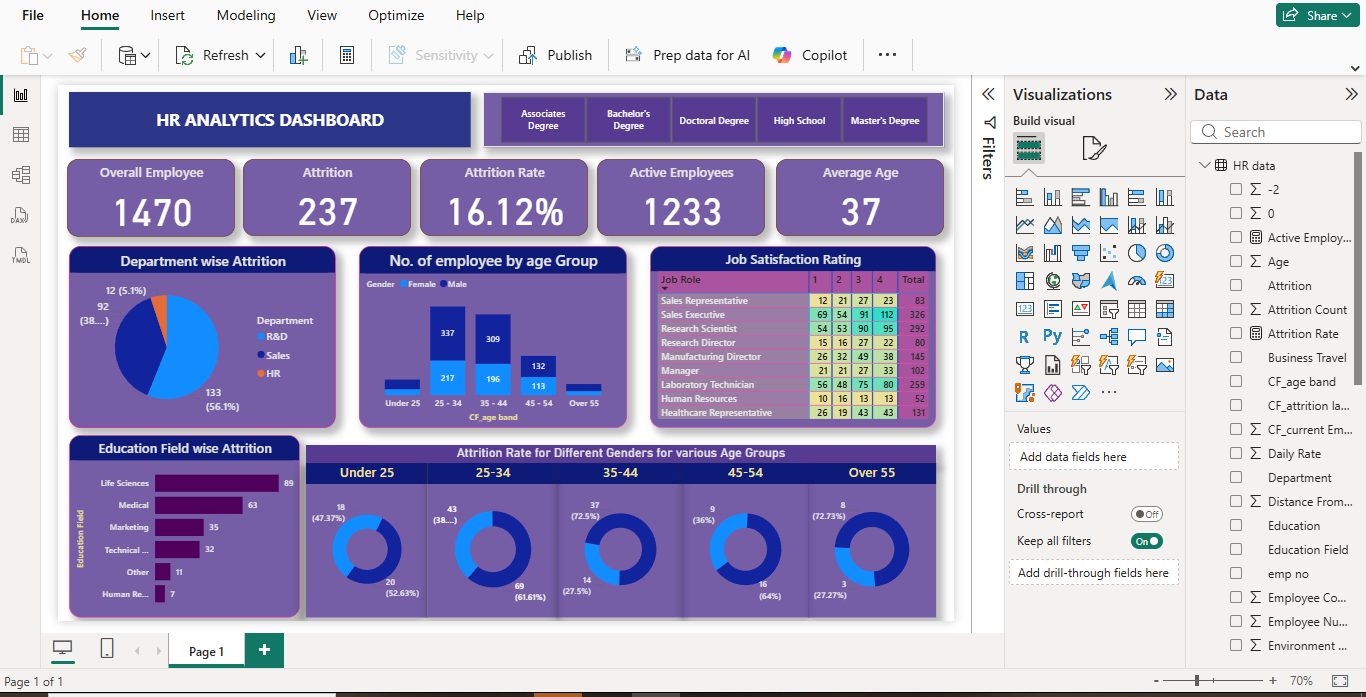

The dashboard page shown, as its layout file describes it:
{"tool":"powerbi","page":{"name":"Page 1","canvas":[1280,765],"ordinal":0},"visuals":[{"type":"card","title":"Overall Employee","fields":{"Values":["Sum(HR data.Employee Count)"]},"box":[12.9,106.4,240,111.4],"z":0,"group":"g2"},{"type":"pieChart","title":"Department wise Attrition","fields":{"Category":["HR data.Department"],"Y":["Sum(HR data.Attrition Count )"]},"box":[15.7,230,381.4,260],"z":0},{"type":"card","title":"Attrition","fields":{"Values":["Sum(HR data.Attrition Count )"]},"box":[264.3,105.7,240,110],"z":1000,"group":"g2"},{"type":"columnChart","title":"No. of employee by age Group ","fields":{"Category":["HR data.CF_age band"],"Y":["Sum(HR data.Employee Count)"],"Series":["HR data.Gender"]},"box":[430,230,382.9,260],"z":1000},{"type":"card","title":"Attrition Rate","fields":{"Values":["HR data.Attrition Rate"]},"box":[517.2,105.7,240,110],"z":2000,"group":"g2"},{"type":"pivotTable","title":"Job Satisfaction Rating ","fields":{"Rows":["HR data.Job Role"],"Columns":["HR data.Job Satisfaction"],"Values":["Sum(HR data.Employee Count)"]},"box":[845.7,230,408.6,260],"z":2000},{"type":"card","title":"Active Employees ","fields":{"Values":["HR data.Active Employees"]},"box":[770,105.7,240,110],"z":3000,"group":"g2"},{"type":"barChart","title":"Education Field wise Attrition","fields":{"Category":["HR data.Education Field"],"Y":["Sum(HR data.Attrition Count )"]},"box":[15.7,500,330,261.4],"z":3000},{"type":"card","title":"Average Age ","fields":{"Values":["Avg(HR data.Age)"]},"box":[1025.8,105.7,240,110],"z":4000,"group":"g2"},{"type":"textbox","title":"Attrition Rate for Different Genders for various Age Groups ","box":[354.3,514.3,900,25.7],"z":4000},{"type":"textbox","title":"HR ANALYTICS DASHBOARD ","box":[15.7,10,574.3,78.6],"z":5000},{"type":"slicer","fields":{"Values":["HR data.Education"]},"box":[607.1,10,658.6,78.6],"z":6000},{"type":"group","id":"g1","title":"Group 1","box":[354.3,540,900,221.4],"z":7000},{"type":"group","id":"g2","title":"Group 2","box":[12.9,105.7,1252.9,111.4],"z":8000},{"type":"donutChart","title":"Under 25","fields":{"Category":["HR data.Gender"],"Y":["Sum(HR data.Attrition Count )"],"Series":["HR data.CF_age band"]},"box":[354.3,540,174.3,221.4],"z":9000,"group":"g1"},{"type":"donutChart","title":"25-34","fields":{"Category":["HR data.Gender"],"Y":["Sum(HR data.Attrition Count )"],"Series":["HR data.CF_age band"]},"box":[528.6,540,185.7,221.4],"z":10000,"group":"g1"},{"type":"donutChart","title":"35-44","fields":{"Category":["HR data.Gender"],"Y":["Sum(HR data.Attrition Count )"],"Series":["HR data.CF_age band"]},"box":[714.3,540,178.6,221.4],"z":11000,"group":"g1"},{"type":"donutChart","title":"45-54","fields":{"Category":["HR data.Gender"],"Y":["Sum(HR data.Attrition Count )"],"Series":["HR data.CF_age band"]},"box":[892.9,540,178.6,221.4],"z":12000,"group":"g1"},{"type":"donutChart","title":"Over 55","fields":{"Category":["HR data.Gender"],"Y":["Sum(HR data.Attrition Count )"],"Series":["HR data.CF_age band"]},"box":[1071.4,540,182.9,221.4],"z":13000,"group":"g1"}]}

Visuals, with their boxes on the page's 1280x765 design canvas (x1, y1, x2, y2). These are canvas units, not pixel positions in the 1366x697 screenshot, which may show the page scaled, cropped or inside an application window:
"Overall Employee" card: 13/106/253/218
"Department wise Attrition" pieChart: 16/230/397/490
"Attrition" card: 264/106/504/216
"No. of employee by age Group " columnChart: 430/230/813/490
"Attrition Rate" card: 517/106/757/216
"Job Satisfaction Rating " pivotTable: 846/230/1254/490
"Active Employees " card: 770/106/1010/216
"Education Field wise Attrition" barChart: 16/500/346/761
"Average Age " card: 1026/106/1266/216
"Attrition Rate for Different Genders for various Age Groups " textbox: 354/514/1254/540
"HR ANALYTICS DASHBOARD " textbox: 16/10/590/89
slicer - HR data.Education: 607/10/1266/89
"Group 1" group: 354/540/1254/761
"Group 2" group: 13/106/1266/217
"Under 25" donutChart: 354/540/529/761
"25-34" donutChart: 529/540/714/761
"35-44" donutChart: 714/540/893/761
"45-54" donutChart: 893/540/1072/761
"Over 55" donutChart: 1071/540/1254/761
